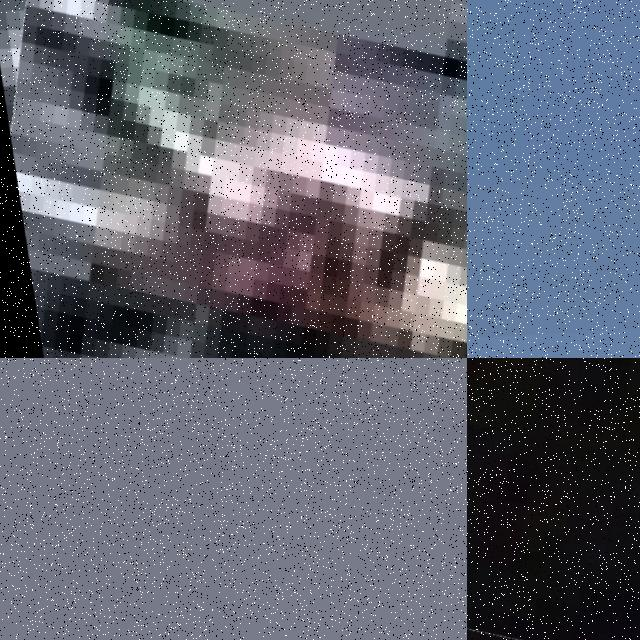0: (0, 0, 467, 358)
drone: (467, 358, 640, 640)
